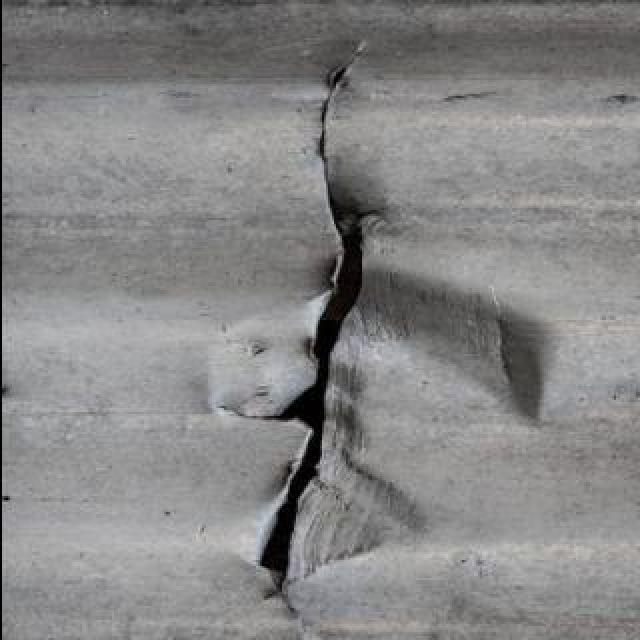crack: (213, 33, 385, 619)
dent: (361, 271, 561, 435)
